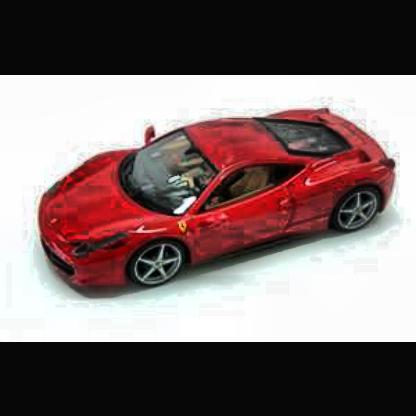Ferrari 458 Italia Coupe 2012: (38, 104, 399, 295)
